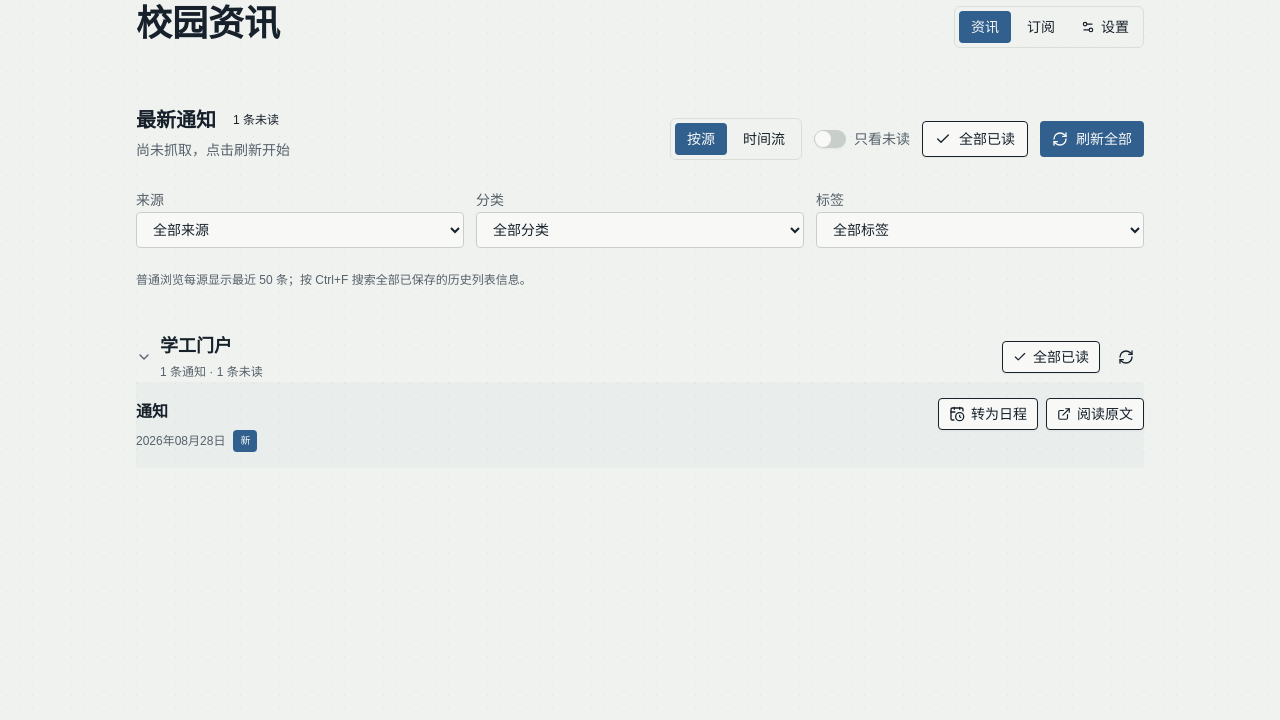
campus-feed view (第2层 三视图与分节折叠) › lets the user remove one AI candidate before confirming the rest
Expected: the heading "通知" is shown, [136,403,168,420]
Click the button "转为日程". click: (988, 414)
box: [938,398,1038,430]
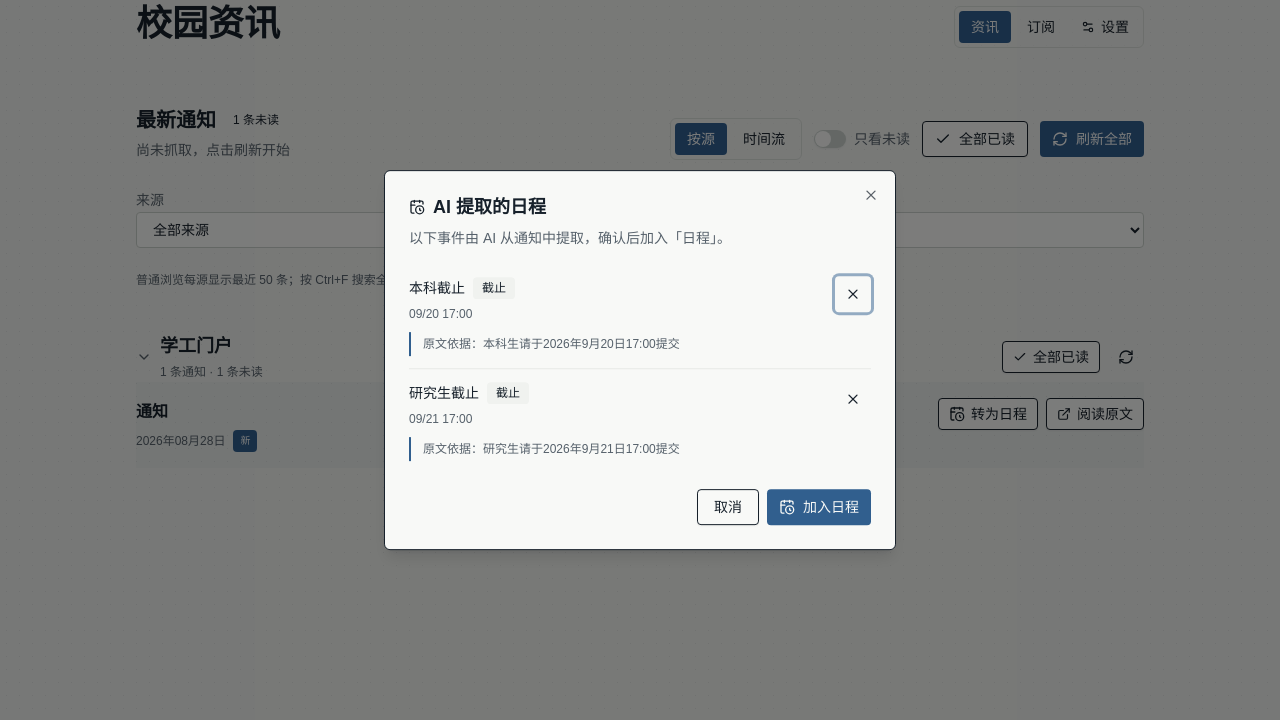
Expected: the text "本科截止" is shown, [409,276,465,300]
Click the button named "移除 本科截止". click: (853, 294)
box: [835,276,871,312]
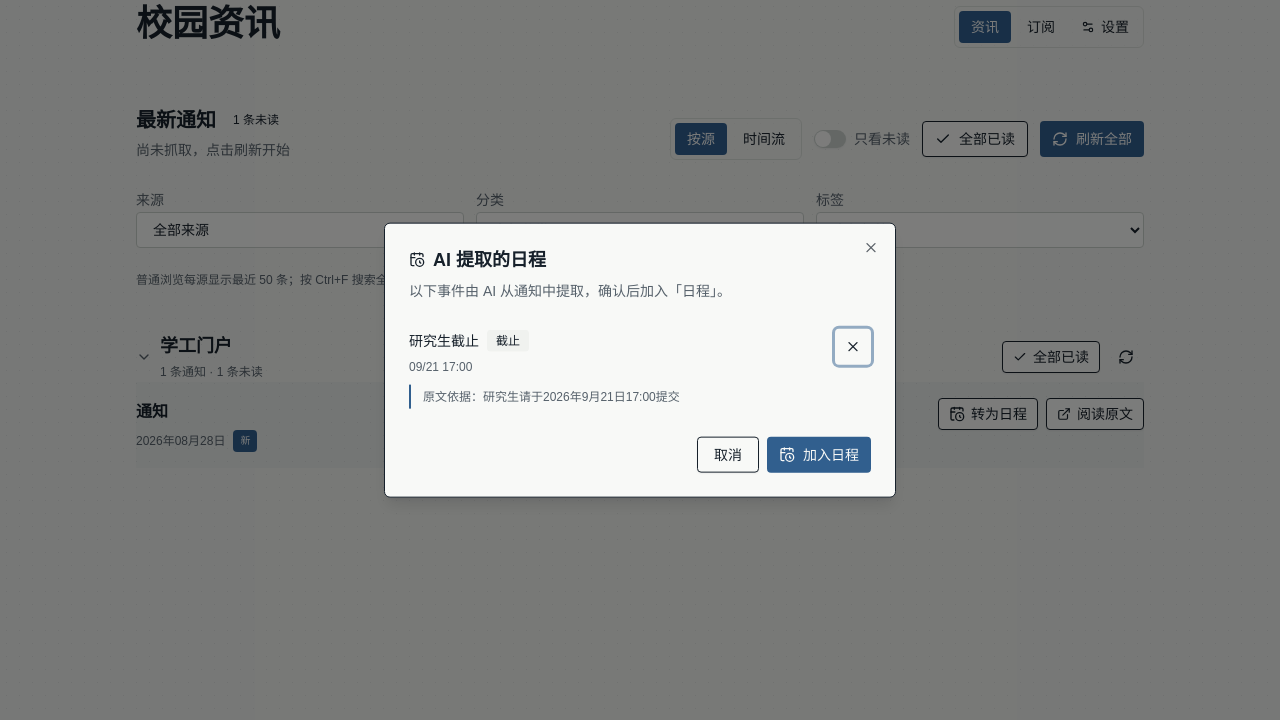
Expected: the text "本科截止" is gone
Expected: the text "研究生截止" is shown, [409,328,479,352]
